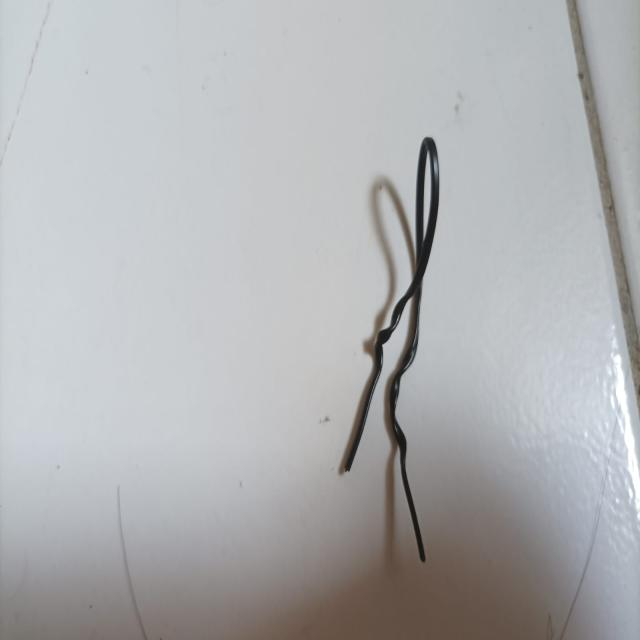Anorganik: (335, 120, 464, 576)
